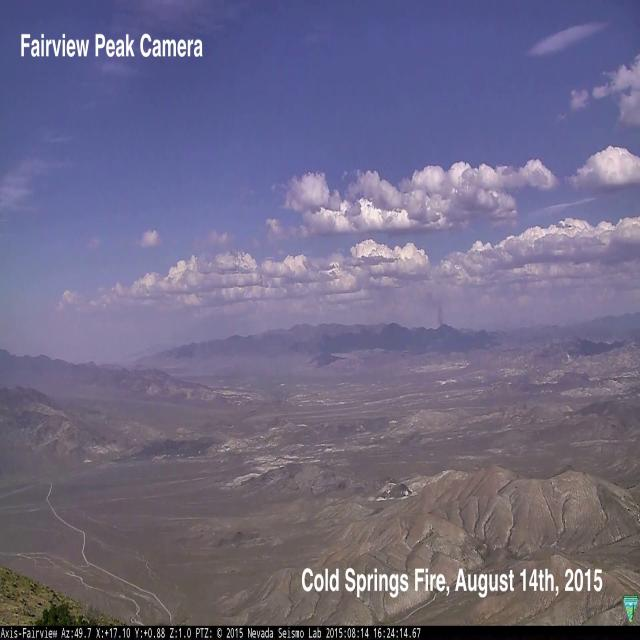smoke: (426, 292, 446, 327)
